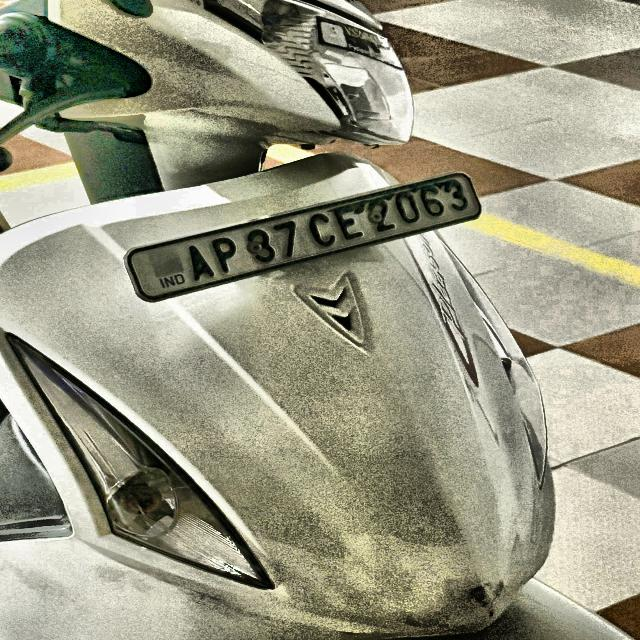license-plate: (129, 169, 491, 304)
